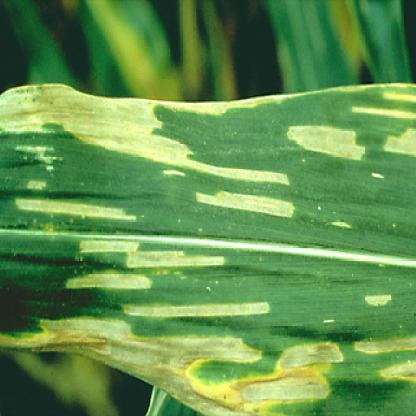corn gray leaf spot: (3, 68, 415, 411)
